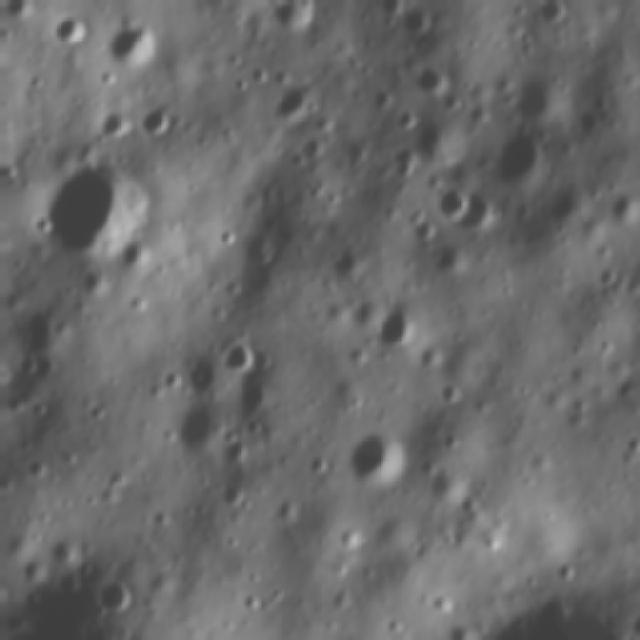crater: (27, 156, 150, 270), (338, 424, 408, 488), (496, 68, 558, 127), (168, 394, 227, 454), (487, 127, 547, 185), (366, 298, 425, 354), (537, 175, 588, 230), (260, 78, 322, 119), (108, 17, 152, 71), (91, 574, 142, 617), (45, 8, 97, 50), (256, 0, 318, 34), (424, 184, 470, 225), (422, 464, 468, 505), (460, 190, 502, 232), (216, 336, 258, 378), (112, 234, 159, 271), (392, 1, 434, 41), (234, 378, 275, 418), (136, 100, 173, 142), (595, 191, 637, 227), (407, 63, 447, 100), (95, 104, 132, 142), (518, 0, 567, 25), (434, 378, 468, 414), (377, 105, 414, 138), (337, 130, 371, 164), (380, 147, 418, 176), (294, 134, 331, 160), (362, 84, 391, 110), (208, 224, 234, 248), (637, 177, 640, 218)
